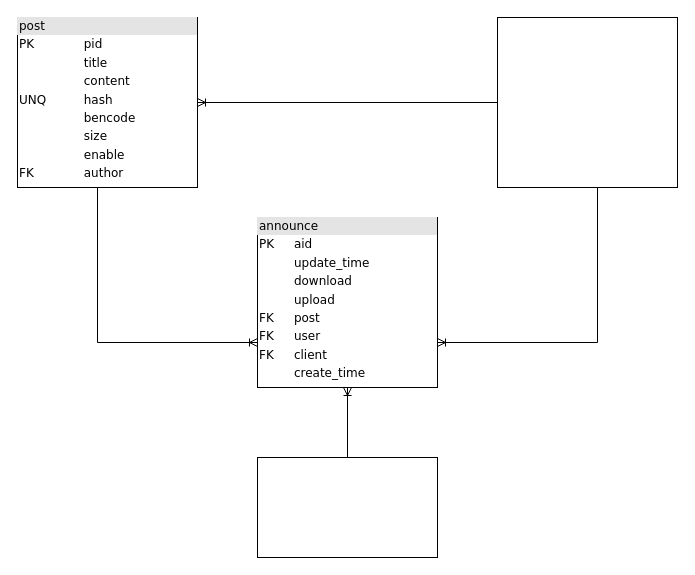
The diagram is 695 pixels wide and 575 high, and some of its shapes have lost their labels. The centre of each missing label's shape, as x and y in pixels:
client PK cid version name enable: the point at 347,507
user PK uid username password UNQ email upload download credit status: the point at 587,102
